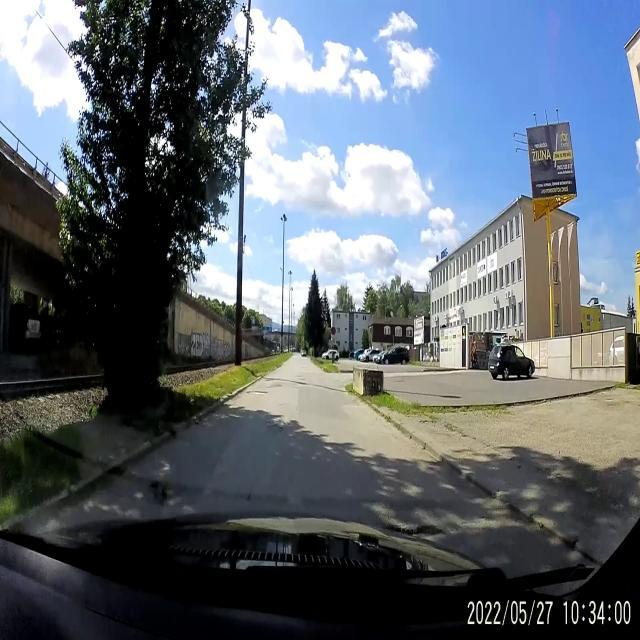Manhole: (248, 386, 268, 399)
Pothole: (384, 517, 444, 539), (262, 412, 289, 434)
